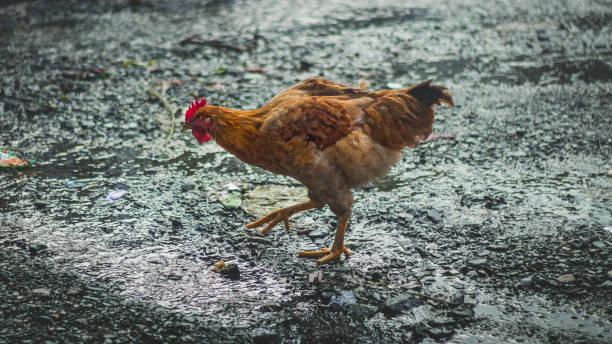AbNormal: (184, 75, 435, 262)
